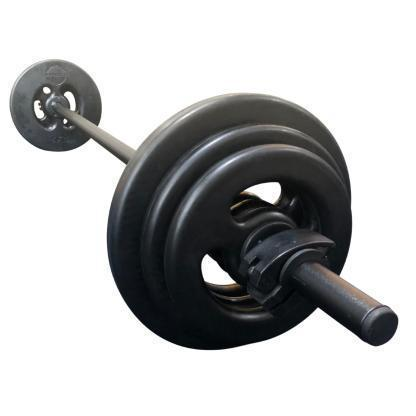barbell: (9, 57, 399, 354)
